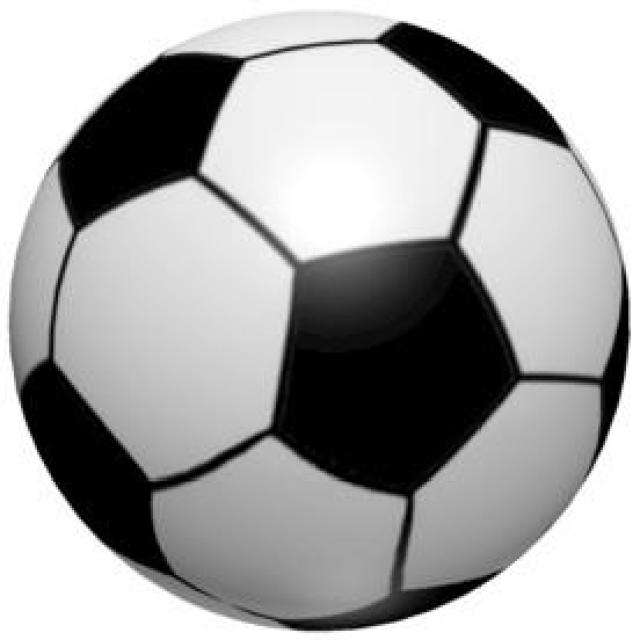Soccer Ball: (12, 9, 633, 633)
